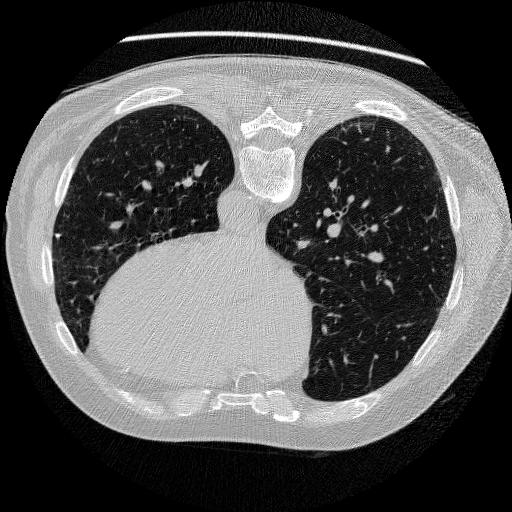nodule: (54, 232, 63, 241)
